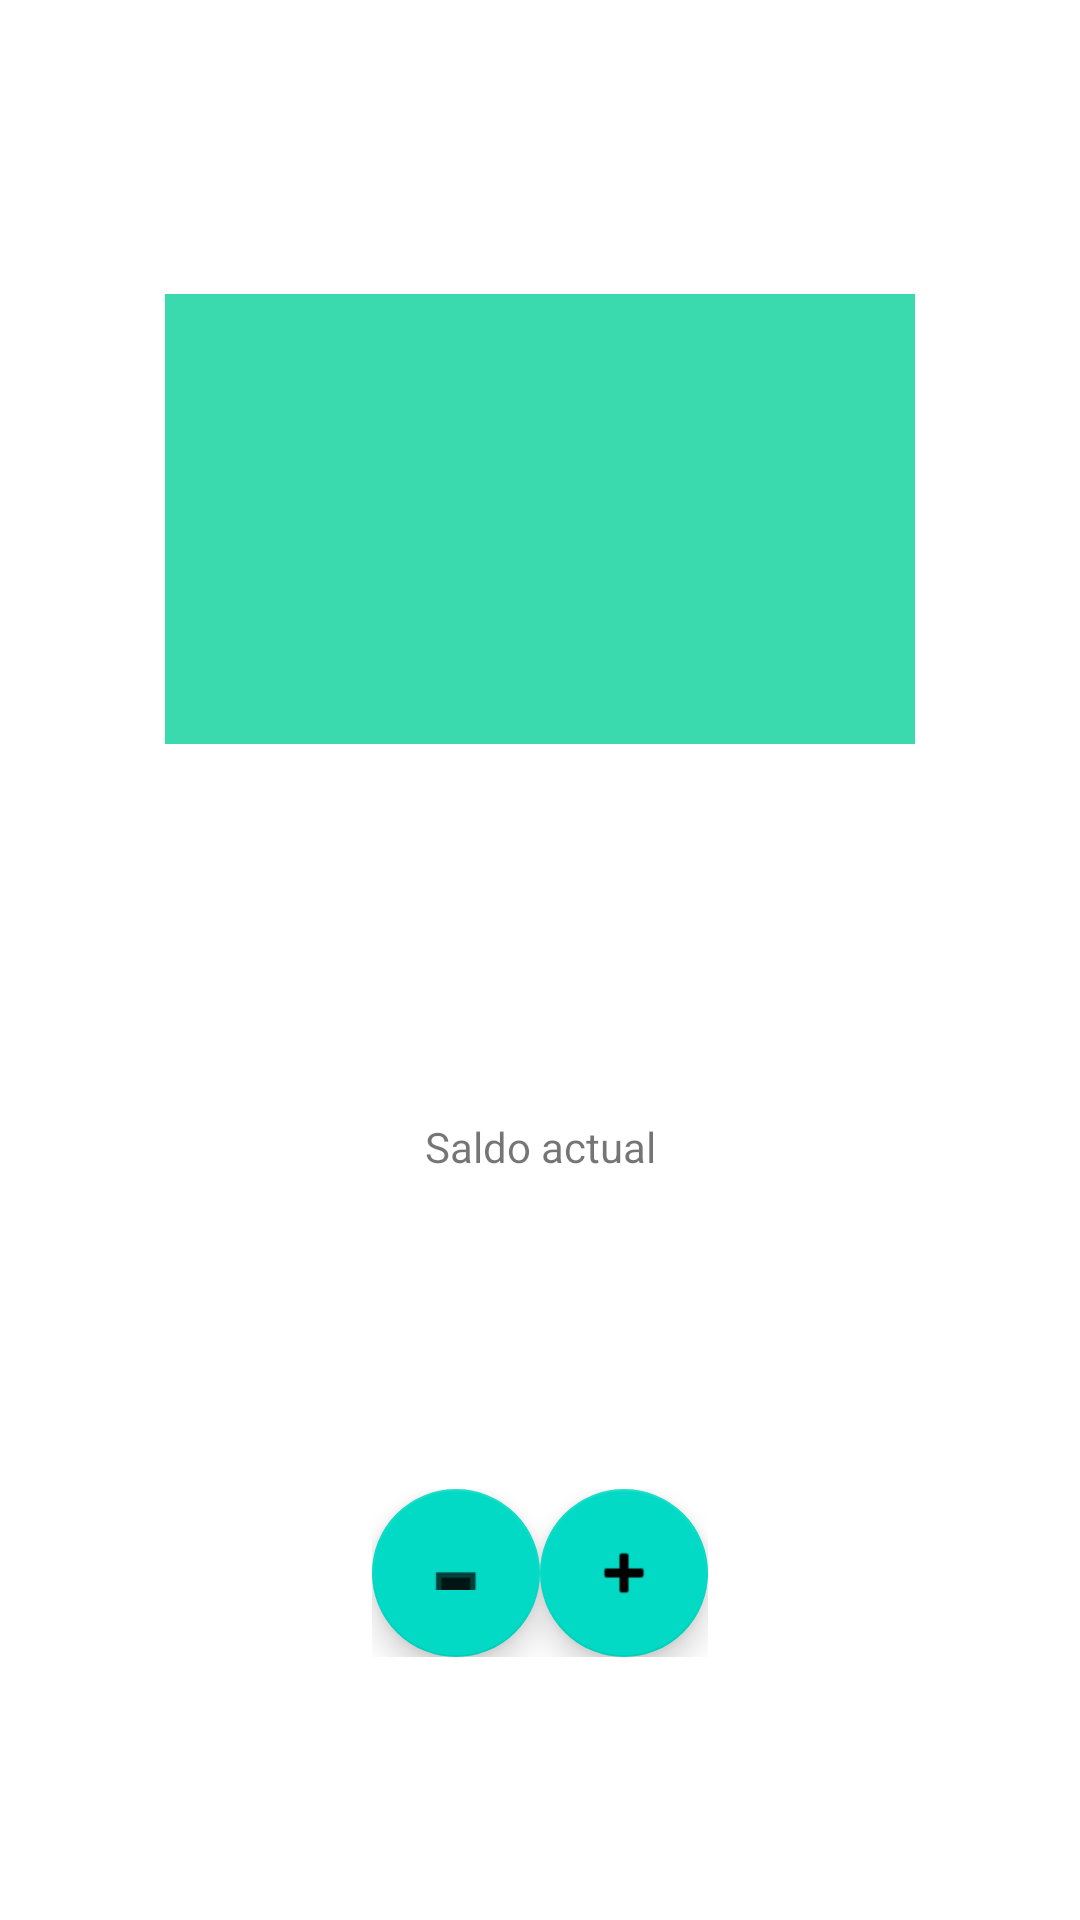

Locate icon controls on the screen. Image size 1080w x 1920h, boxes as (x1, y1, x2, y2).
add: (540, 1489, 708, 1657)
